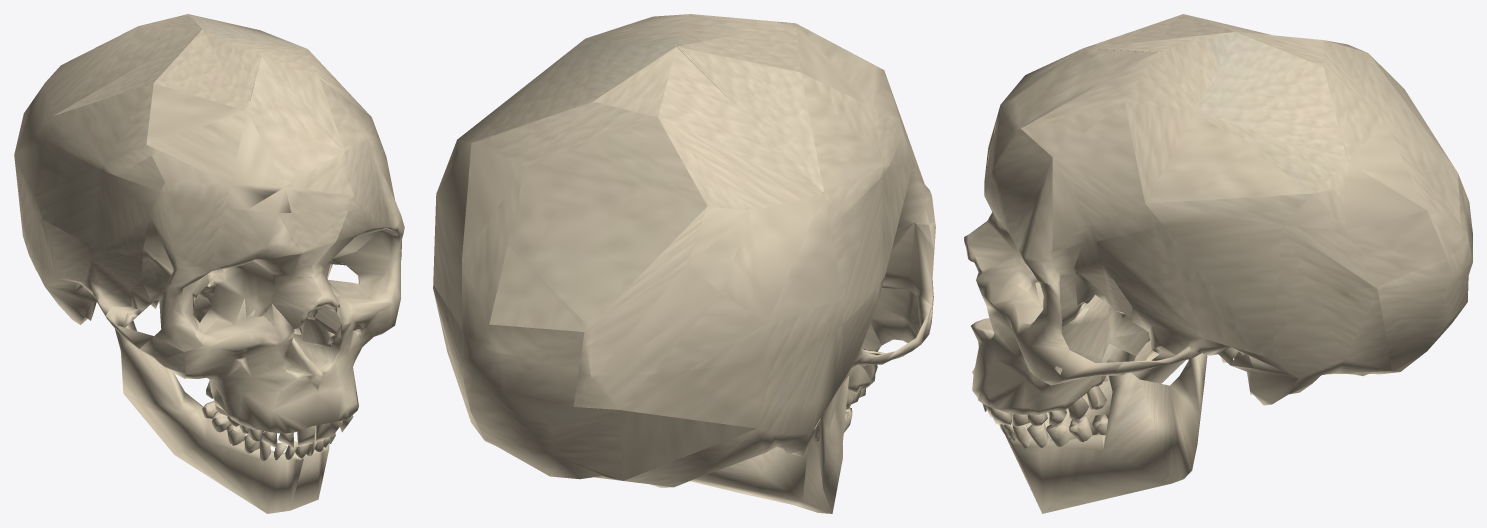
File: skull.FBX
3 renders of one model, left to right at view 1: azimuth 30°, elevation 25°; view 2: azimuth 150°, elevation 25°; view 3: azimuth 270°, elevation 25°, orthographic. The views are drawn at different scales.
Visible parts, largest first — view 1: Object02, Object03, Object01, Skull_Lower_skull_skull2; view 2: Object01, Object02, Skull_Lower_skull_skull2, Object03; view 3: Object01, Object03, Skull_Lower_skull_skull2, Object02.
Boxes of the visible parts, x1=… form: Object02: x1=14, y1=26, x2=354, y2=351; Object03: x1=166, y1=79, x2=404, y2=447; Object01: x1=54, y1=14, x2=371, y2=415; Skull_Lower_skull_skull2: x1=114, y1=264, x2=335, y2=513; Object01: x1=433, y1=14, x2=933, y2=480; Object02: x1=573, y1=21, x2=935, y2=487; Skull_Lower_skull_skull2: x1=612, y1=375, x2=852, y2=513; Object03: x1=677, y1=47, x2=933, y2=409; Object01: x1=1021, y1=14, x2=1472, y2=410; Object03: x1=964, y1=74, x2=1163, y2=426; Skull_Lower_skull_skull2: x1=999, y1=341, x2=1207, y2=513; Object02: x1=973, y1=40, x2=1472, y2=232.
Bounding box in the file's own units: 393 × 527 × 534.
1 material, 1 textured.
